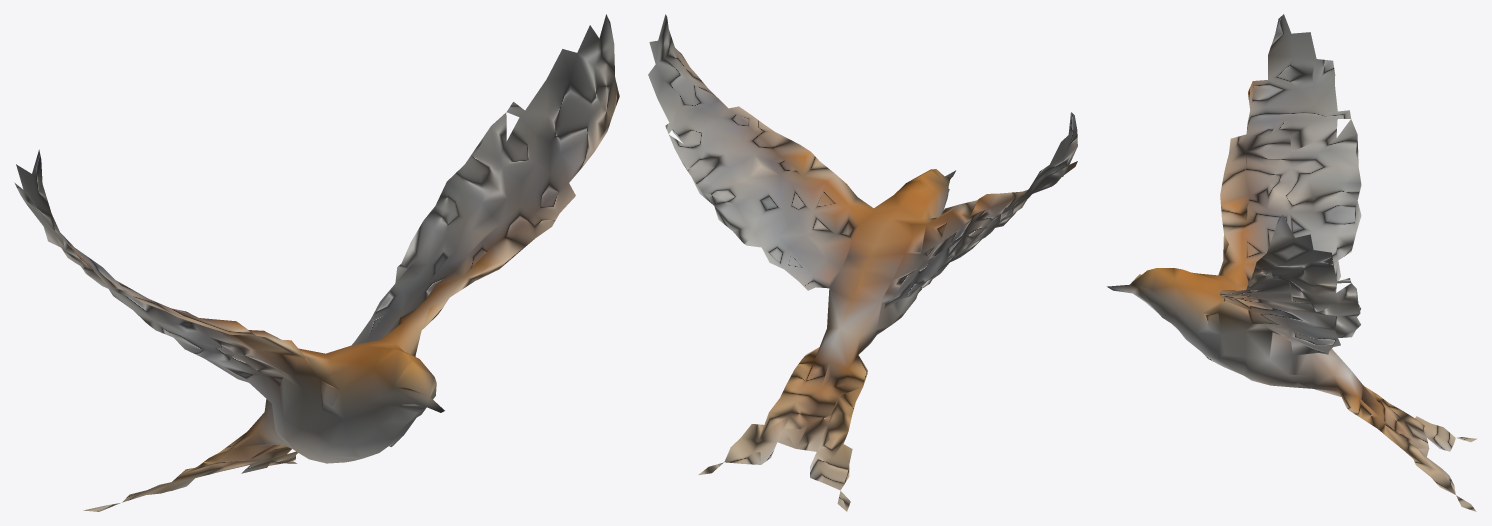
File: vogel.glb
3 renders of one model, left to right at view 1: azimuth 30°, elevation 25°; view 2: azimuth 150°, elevation 25°; view 3: azimuth 270°, elevation 25°, orthographic. The views are drawn at different scales.
Bounding box in the file's own units: 1.87 × 1.57 × 1.45.
